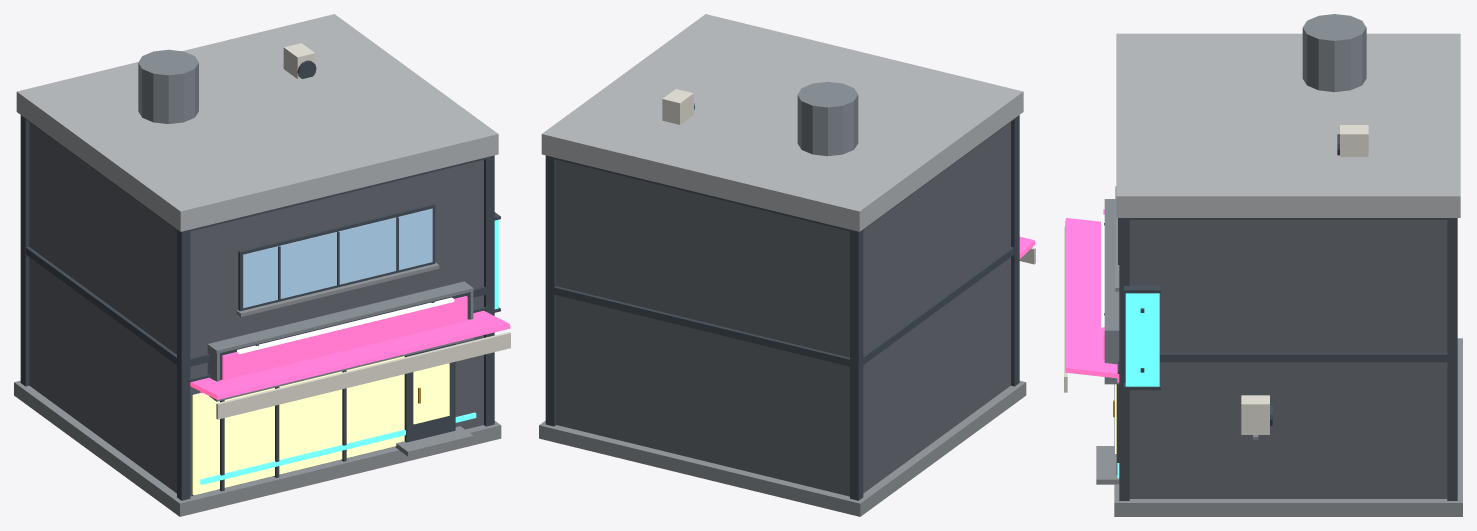
File: shop_arcade_2f.glb
3 views of the same model, side by side, from view 1: azimuth 30°, elevation 25°; view 2: azimuth 150°, elevation 25°; view 3: azimuth 270°, elevation 25° (orthographic). The views are drawn at different scales.
Visible parts, largest first — view 1: body.036, parapet.014, shop_glass.022, win_glass.047, base.036, awning.011, sign_face.029, awning_lip.011, water_tank.015, post.140, sign_rim_top.027, post.141 (+13 smaller); view 2: body.036, parapet.014, base.036, beam.076, water_tank.015, post.141, post.143, post.140, ac_body.046, beam.077; view 3: body.036, parapet.014, base.036, awning.011, water_tank.015, blade_board.009, post.143, beam.076, post.142, sign_rim_top.027, ac_body.045, ac_body.046 (+3 smaller).
Part boxes in pixels (x1,y1,x2,y2): body.036: (29,122,483,496); parapet.014: (16,14,498,231); shop_glass.022: (192,356,404,495); win_glass.047: (243,208,432,308); base.036: (14,380,501,516); awning.011: (190,310,510,399); sign_face.029: (222,296,467,380); awning_lip.011: (216,332,510,419); water_tank.015: (138,49,198,123); post.140: (177,229,190,500); sign_rim_top.027: (207,281,473,353); post.141: (20,115,29,386); body.036: (556,122,1010,496); parapet.014: (541,14,1023,231); base.036: (539,381,1026,516); beam.076: (554,247,1014,366); water_tank.015: (797,82,858,156); post.141: (850,229,863,500); post.143: (545,155,556,426); post.140: (1011,115,1019,386); ac_body.046: (662,89,693,124); beam.077: (554,119,1014,231); body.036: (1129,220,1447,498); parapet.014: (1116,33,1460,217); base.036: (1114,338,1462,516); awning.011: (1065,218,1119,378); water_tank.015: (1302,14,1366,92); blade_board.009: (1125,293,1159,386); post.143: (1447,218,1457,500); beam.076: (1159,353,1447,362); post.142: (1119,218,1129,500); sign_rim_top.027: (1104,199,1119,333); ac_body.045: (1241,395,1269,434); ac_body.046: (1340,125,1368,156).
Bounding box in the file's own units: 7.84 × 8 × 7.75.
